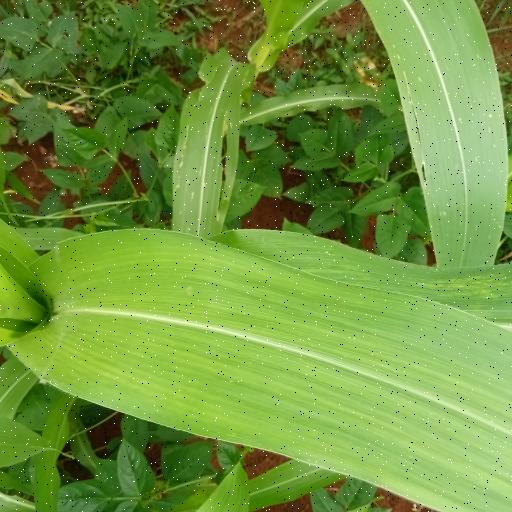Corn_Brown_Spots: (36, 225, 512, 512)
